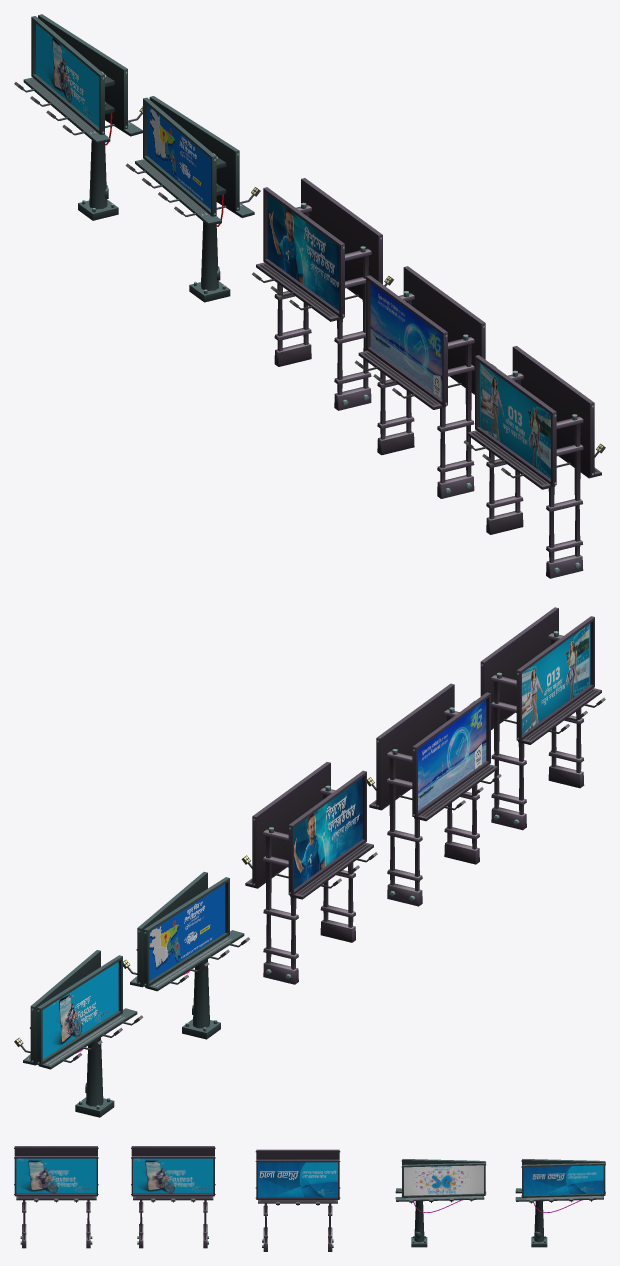
File: Banner .fbx
3 views of the same model, one above another, from view 1: azimuth 30°, elevation 25°; view 2: azimuth 150°, elevation 25°; view 3: azimuth 270°, elevation 25° (orthographic). The views are drawn at different scales.
Visible parts, largest first — view 1: Billboard_2D_Image.R2, Billboard_2D_Image.R1, Billboard_2D_Image.R, Billboard_2C.001, Billboard_2C.002, banner2 (×2), banner, banner.001, banner.002; view 2: Billboard_2D_Image.R, Billboard_2D_Image.R1, Billboard_2D_Image.R2, banner2 (×2), Billboard_2C.002, Billboard_2C.001, banner.002, banner.001, banner; view 3: banner.003 (×2), banner1.002, banner1.001, banner1, Billboard_2D_Image.R2, Billboard_2D_Image.R1, Billboard_2D_Image.R, Billboard_2C.002, Billboard_2C.001.
Part boxes in pixels (left/top/right/bottom): Billboard_2D_Image.R2: left=463, top=346, right=605, bottom=578; Billboard_2D_Image.R1: left=354, top=266, right=496, bottom=498; Billboard_2D_Image.R: left=252, top=178, right=393, bottom=410; Billboard_2C.001: left=125, top=96, right=260, bottom=302; Billboard_2C.002: left=14, top=14, right=142, bottom=220; banner2 (×2): left=36, top=24, right=210, bottom=209; banner: left=267, top=194, right=339, bottom=310; banner.001: left=370, top=283, right=442, bottom=399; banner.002: left=479, top=362, right=550, bottom=478; Billboard_2D_Image.R: left=241, top=762, right=377, bottom=984; Billboard_2D_Image.R1: left=367, top=683, right=501, bottom=906; Billboard_2D_Image.R2: left=470, top=607, right=605, bottom=830; banner2 (×2): left=42, top=884, right=225, bottom=1058; Billboard_2C.002: left=14, top=950, right=143, bottom=1117; Billboard_2C.001: left=123, top=872, right=249, bottom=1039; banner.002: left=522, top=623, right=590, bottom=734; banner.001: left=418, top=699, right=486, bottom=810; banner: left=294, top=777, right=362, bottom=889; banner.003 (×2): left=404, top=1165, right=603, bottom=1195; banner1.002: left=16, top=1158, right=96, bottom=1193; banner1.001: left=133, top=1158, right=213, bottom=1193; banner1: left=258, top=1162, right=337, bottom=1197; Billboard_2D_Image.R2: left=14, top=1146, right=98, bottom=1248; Billboard_2D_Image.R1: left=131, top=1146, right=215, bottom=1248; Billboard_2D_Image.R: left=255, top=1149, right=340, bottom=1251; Billboard_2C.002: left=515, top=1159, right=605, bottom=1247; Billboard_2C.001: left=395, top=1159, right=486, bottom=1247.
Size of the model in its own units: 270 by 387 by 2248.
